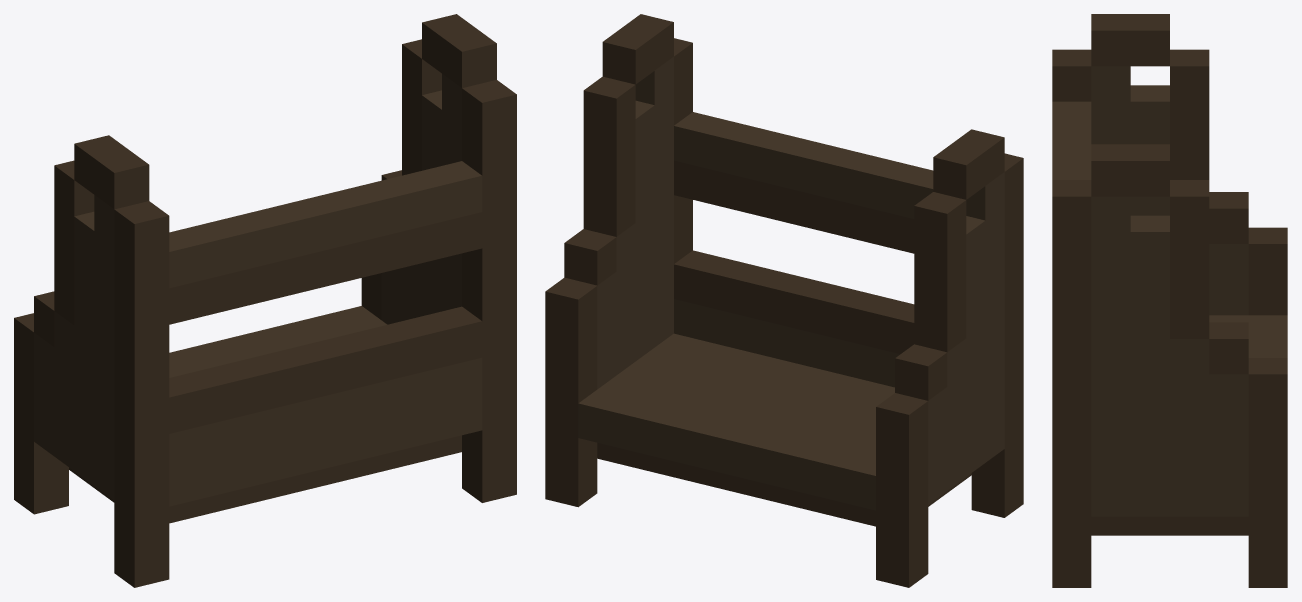
The model's file is church-28-ch_chair2.obj.
The picture shows the model from 3 angles, left to right: view 1: azimuth 30°, elevation 25°; view 2: azimuth 150°, elevation 25°; view 3: azimuth 270°, elevation 25°; orthographic projection. The views are drawn at different scales.
Parts seen in each view (by area): view 1: ch_chair2; view 2: ch_chair2; view 3: ch_chair2.
Part boxes in pixels (x1,y1,x2,y2): ch_chair2: (14, 14, 516, 587); ch_chair2: (545, 14, 1023, 587); ch_chair2: (1052, 14, 1287, 587).
Size of the model in its own units: 1.1 by 1.2 by 0.6.
1 material, 1 textured.
